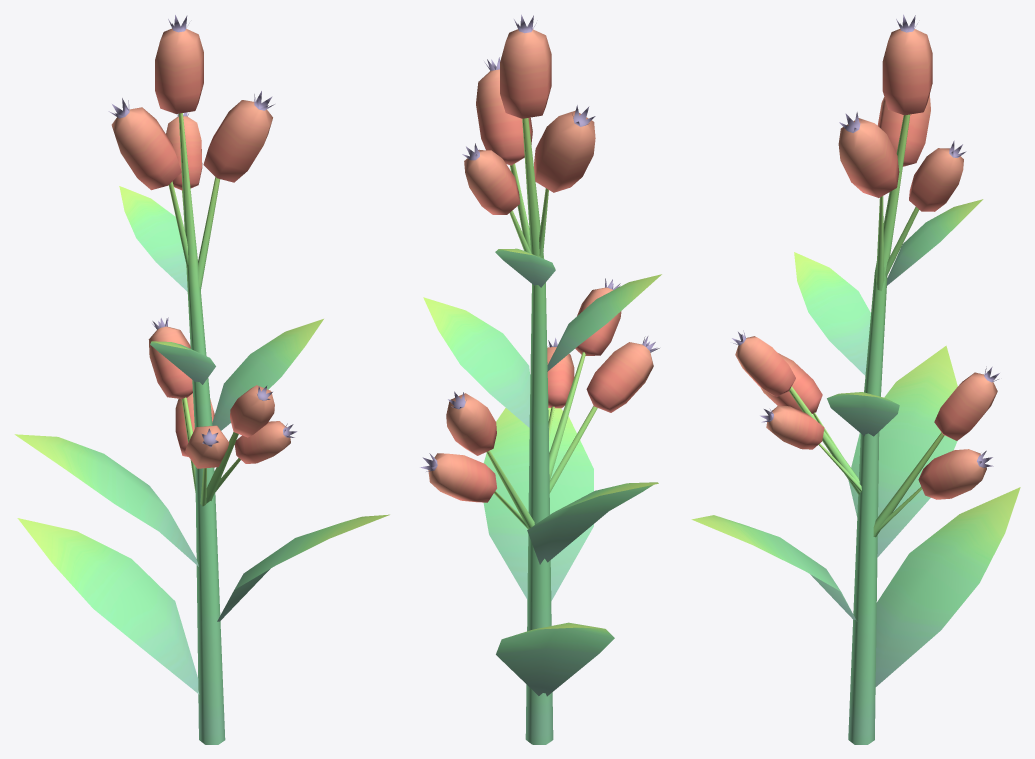
The model's file is Flower.021_Base_Material_0.fbx.
3 renders of one model, left to right at view 1: azimuth 30°, elevation 25°; view 2: azimuth 150°, elevation 25°; view 3: azimuth 270°, elevation 25°, orthographic. The views are drawn at different scales.
Visible parts, largest first — view 1: Flower.021_Base_Material_0_export; view 2: Flower.021_Base_Material_0_export; view 3: Flower.021_Base_Material_0_export.
Boxes of the visible parts, <box> form: Flower.021_Base_Material_0_export: <box>14,15,389,744</box>; Flower.021_Base_Material_0_export: <box>420,14,661,744</box>; Flower.021_Base_Material_0_export: <box>691,14,1020,744</box>.
Bounding box in the file's own units: 1.65 × 4.17 × 1.74.
